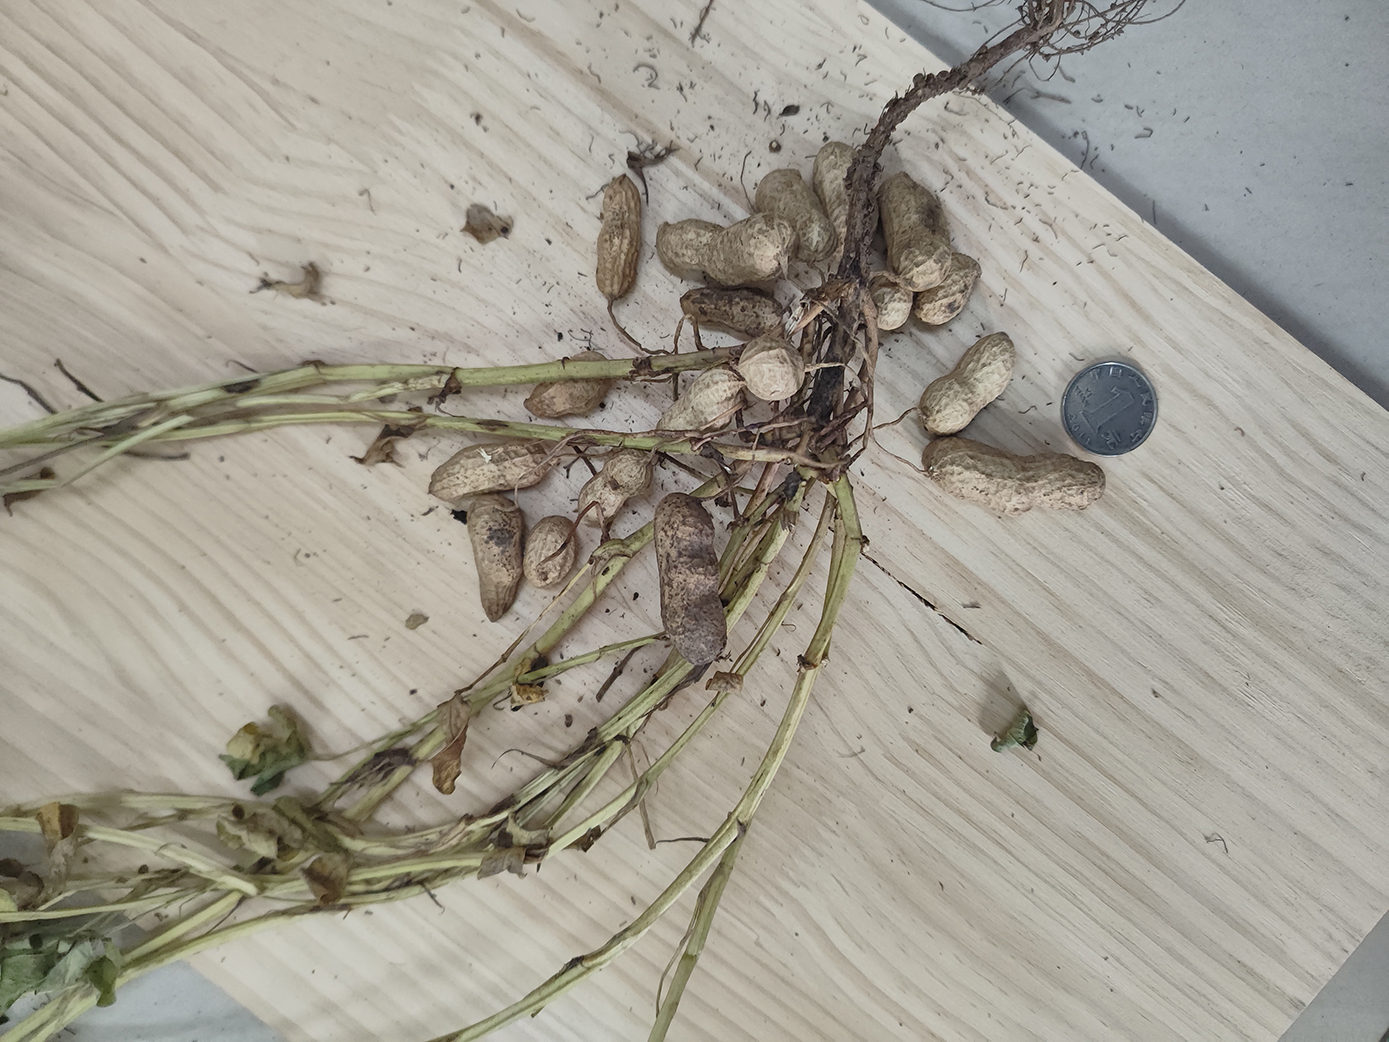h: (921, 437, 1107, 517), (659, 213, 792, 286), (917, 335, 1010, 437), (879, 171, 952, 289), (756, 166, 837, 260), (467, 495, 525, 621), (430, 441, 555, 498), (814, 141, 881, 247), (595, 175, 644, 305), (524, 352, 614, 420), (658, 370, 743, 438), (578, 448, 649, 526), (678, 287, 786, 338), (915, 254, 983, 327), (738, 336, 807, 401), (524, 516, 576, 584), (869, 273, 911, 329)
l: (656, 494, 727, 665)
